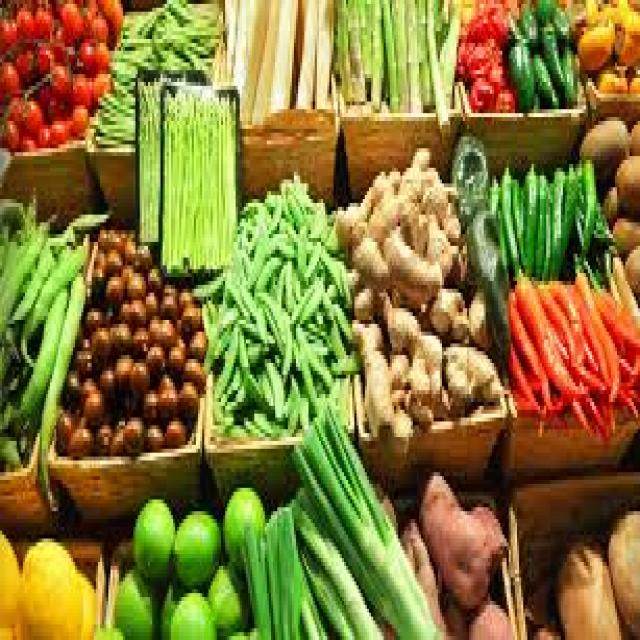organic waste: (290, 406, 434, 636), (415, 460, 509, 605), (290, 488, 381, 636), (162, 78, 234, 265), (36, 269, 84, 511), (540, 281, 602, 437), (16, 238, 90, 363), (512, 269, 582, 398), (2, 285, 67, 421), (0, 210, 63, 336), (502, 285, 561, 417), (202, 297, 261, 429), (138, 70, 184, 234), (553, 527, 619, 636), (242, 511, 294, 636), (379, 293, 442, 394), (398, 507, 446, 636), (223, 273, 298, 355), (277, 504, 323, 636), (19, 535, 79, 636), (573, 273, 619, 398), (244, 363, 323, 429), (238, 176, 294, 266), (352, 316, 392, 441), (388, 328, 438, 425), (0, 183, 35, 319), (388, 304, 438, 398), (442, 336, 502, 410), (171, 504, 221, 586), (152, 23, 221, 82), (383, 227, 438, 300), (607, 507, 638, 636), (231, 0, 265, 117), (221, 480, 265, 570), (129, 492, 171, 585), (429, 277, 486, 343), (204, 554, 248, 636), (578, 110, 628, 180), (502, 340, 546, 418), (6, 242, 52, 316), (450, 129, 486, 222), (233, 324, 271, 410), (112, 562, 156, 636), (567, 281, 603, 367), (550, 273, 584, 363), (467, 199, 498, 297), (592, 285, 638, 351), (348, 215, 386, 292), (319, 296, 356, 374), (419, 164, 457, 238), (425, 211, 465, 281), (288, 168, 325, 242), (248, 0, 271, 117), (435, 0, 460, 105), (267, 0, 292, 105), (363, 164, 398, 238), (90, 82, 134, 140), (0, 527, 23, 636), (396, 180, 427, 258), (312, 0, 335, 105), (165, 585, 212, 636), (398, 137, 436, 199), (292, 0, 315, 101), (600, 289, 638, 347), (389, 0, 408, 113), (577, 16, 613, 74), (110, 39, 162, 78), (333, 179, 365, 242), (286, 277, 319, 336), (488, 172, 508, 269), (212, 324, 238, 398), (500, 160, 517, 273), (423, 0, 440, 113), (344, 0, 363, 101), (454, 31, 498, 74), (540, 15, 565, 90), (525, 578, 557, 636), (405, 0, 421, 113), (414, 0, 431, 105), (467, 597, 511, 636), (578, 156, 594, 262), (559, 160, 575, 265), (508, 32, 532, 102), (530, 39, 556, 101), (613, 152, 638, 215), (613, 351, 638, 414), (319, 246, 348, 300), (613, 0, 638, 62), (296, 336, 327, 386), (121, 0, 165, 35), (56, 203, 113, 230), (164, 0, 221, 27), (548, 156, 561, 273), (473, 0, 511, 39), (296, 222, 321, 281), (260, 351, 282, 418), (379, 0, 393, 105), (369, 0, 383, 105), (521, 156, 534, 269), (609, 207, 638, 257), (488, 266, 507, 340), (334, 0, 348, 98), (438, 589, 467, 636), (75, 566, 94, 636), (62, 363, 86, 417), (296, 343, 315, 410), (544, 176, 557, 273), (532, 172, 544, 277), (461, 8, 496, 43), (10, 0, 36, 47), (173, 374, 198, 422), (62, 418, 92, 457), (54, 0, 84, 39), (467, 66, 496, 105), (152, 370, 175, 418), (80, 0, 108, 39), (515, 0, 538, 47), (511, 172, 523, 262), (90, 324, 110, 378), (44, 54, 71, 94), (0, 426, 27, 464), (350, 277, 375, 316), (223, 0, 236, 74), (94, 0, 121, 35), (112, 355, 132, 402), (162, 332, 184, 374), (79, 296, 102, 336), (158, 410, 184, 445), (356, 0, 369, 70), (594, 62, 626, 90), (0, 58, 19, 105), (159, 582, 175, 636), (175, 296, 202, 328), (119, 414, 144, 448), (190, 269, 225, 293), (579, 0, 615, 23), (559, 39, 573, 98), (482, 54, 502, 94), (98, 363, 115, 410), (71, 332, 90, 374), (66, 98, 85, 140), (84, 382, 102, 426), (146, 312, 173, 340), (80, 39, 108, 66), (600, 180, 615, 230), (129, 355, 148, 394), (33, 0, 52, 39), (104, 270, 123, 308), (623, 246, 638, 293), (144, 343, 162, 382), (112, 320, 132, 355), (0, 8, 15, 54), (550, 0, 569, 35), (184, 328, 208, 355), (90, 66, 108, 102), (182, 355, 204, 383), (131, 324, 148, 359), (88, 250, 110, 277), (52, 406, 67, 445), (23, 94, 40, 128), (36, 39, 52, 74), (14, 47, 34, 74), (71, 70, 90, 98), (31, 117, 48, 148), (90, 621, 125, 636), (121, 227, 133, 270), (494, 82, 513, 109), (108, 222, 125, 250), (125, 261, 142, 289), (106, 418, 121, 448), (156, 289, 175, 312), (136, 242, 150, 273), (4, 94, 19, 121), (627, 117, 638, 152), (144, 425, 160, 449), (46, 117, 62, 141), (115, 293, 129, 320), (221, 624, 252, 636), (94, 418, 106, 448), (2, 117, 17, 141), (127, 293, 140, 320), (106, 250, 121, 273), (144, 257, 156, 285), (142, 289, 156, 312), (534, 0, 554, 16), (17, 129, 33, 148), (158, 277, 173, 297), (177, 281, 188, 308), (625, 70, 638, 90), (96, 226, 106, 246)
